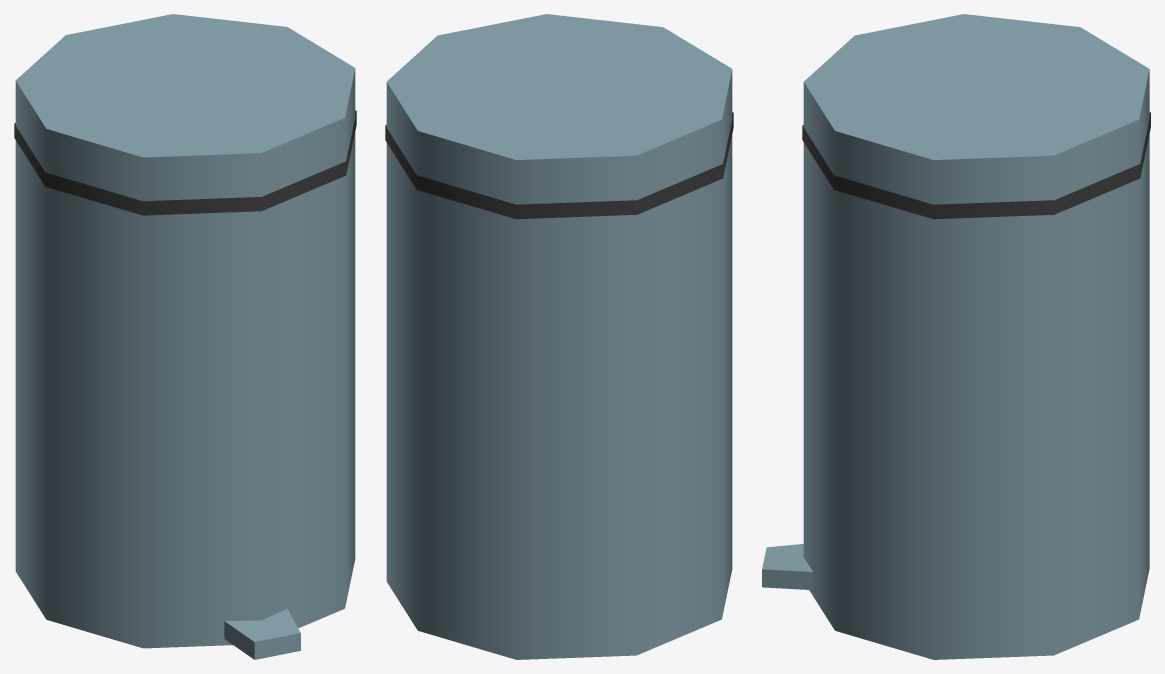
Rendered from bathroom_item_034.glb.
3 renders of one model, left to right at view 1: azimuth 30°, elevation 25°; view 2: azimuth 150°, elevation 25°; view 3: azimuth 270°, elevation 25°, orthographic.
Parts seen in each view (by area): view 1: bathroom_item_034; view 2: bathroom_item_034; view 3: bathroom_item_034.
Part boxes in pixels (x1,y1,x2,y2): bathroom_item_034: (14, 14, 356, 659); bathroom_item_034: (385, 14, 733, 659); bathroom_item_034: (762, 14, 1150, 659).
Bounding box in the file's own units: 0.3211 × 0.5084 × 0.3584.
Materials: 1 (1 with a texture image).
